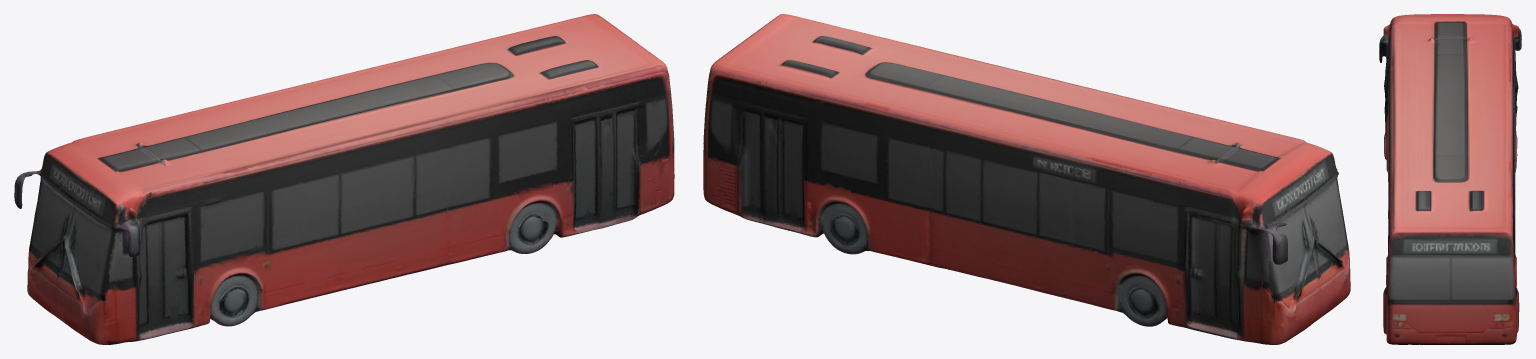
The model's file is bus.glb.
The picture shows the model from 3 angles, left to right: view 1: azimuth 30°, elevation 25°; view 2: azimuth 150°, elevation 25°; view 3: azimuth 270°, elevation 25°; orthographic projection. The views are drawn at different scales.
Parts seen in each view (by area): view 1: input; view 2: input; view 3: input.
Part boxes in pixels (left/top/right/bottom): input: left=14, top=14, right=674, bottom=344; input: left=703, top=14, right=1350, bottom=344; input: left=1379, top=14, right=1521, bottom=344.
Size of the model in its own units: 12 by 3.14 by 3.1.
Materials: 1 (1 with a texture image).
